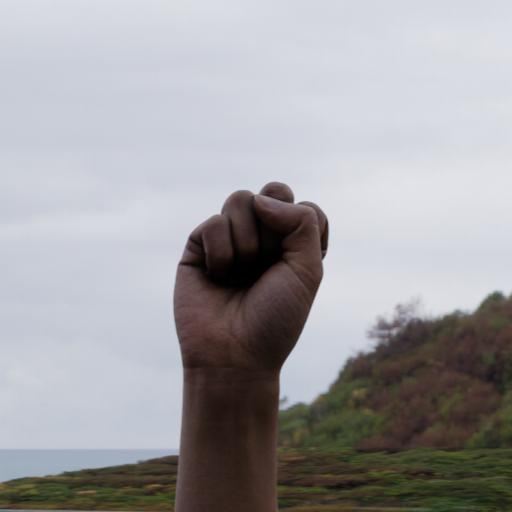S: (150, 147, 349, 399)
